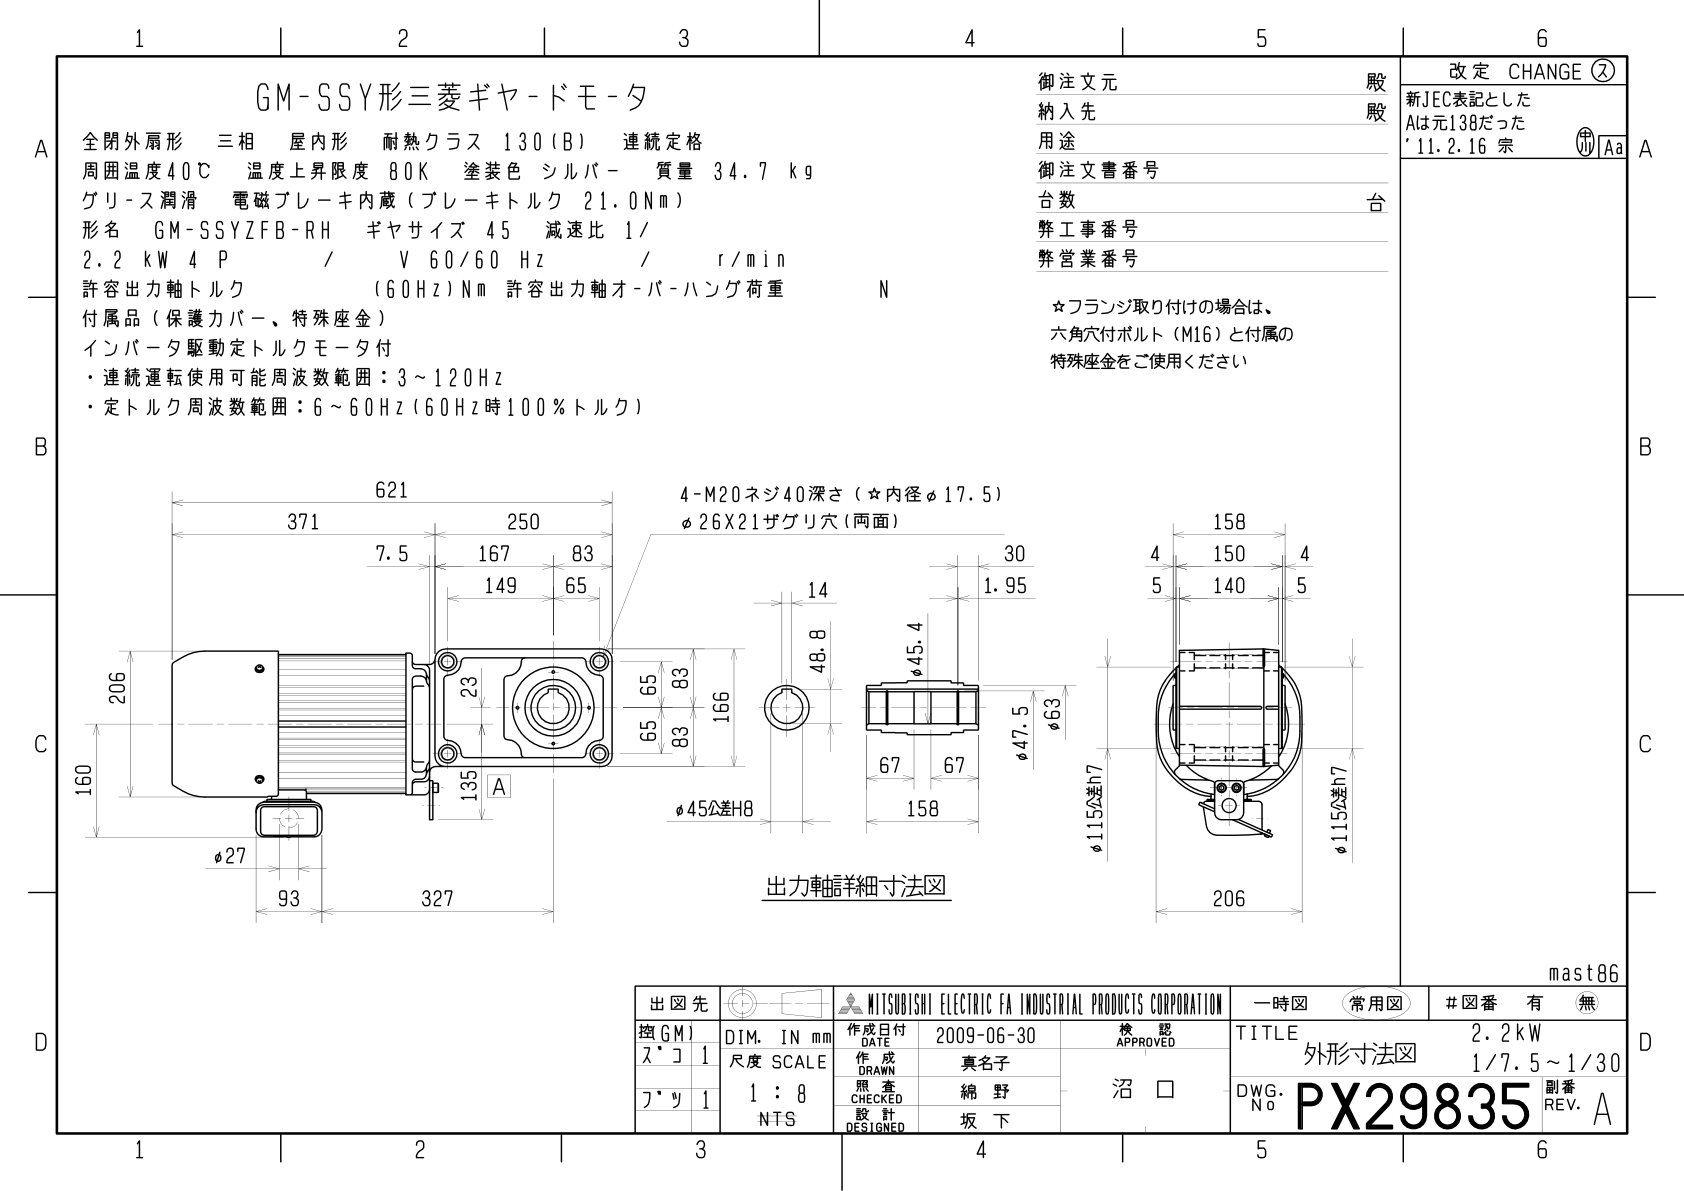GM_SSY_インバータ屋内_三相: (55, 467, 1373, 947)
